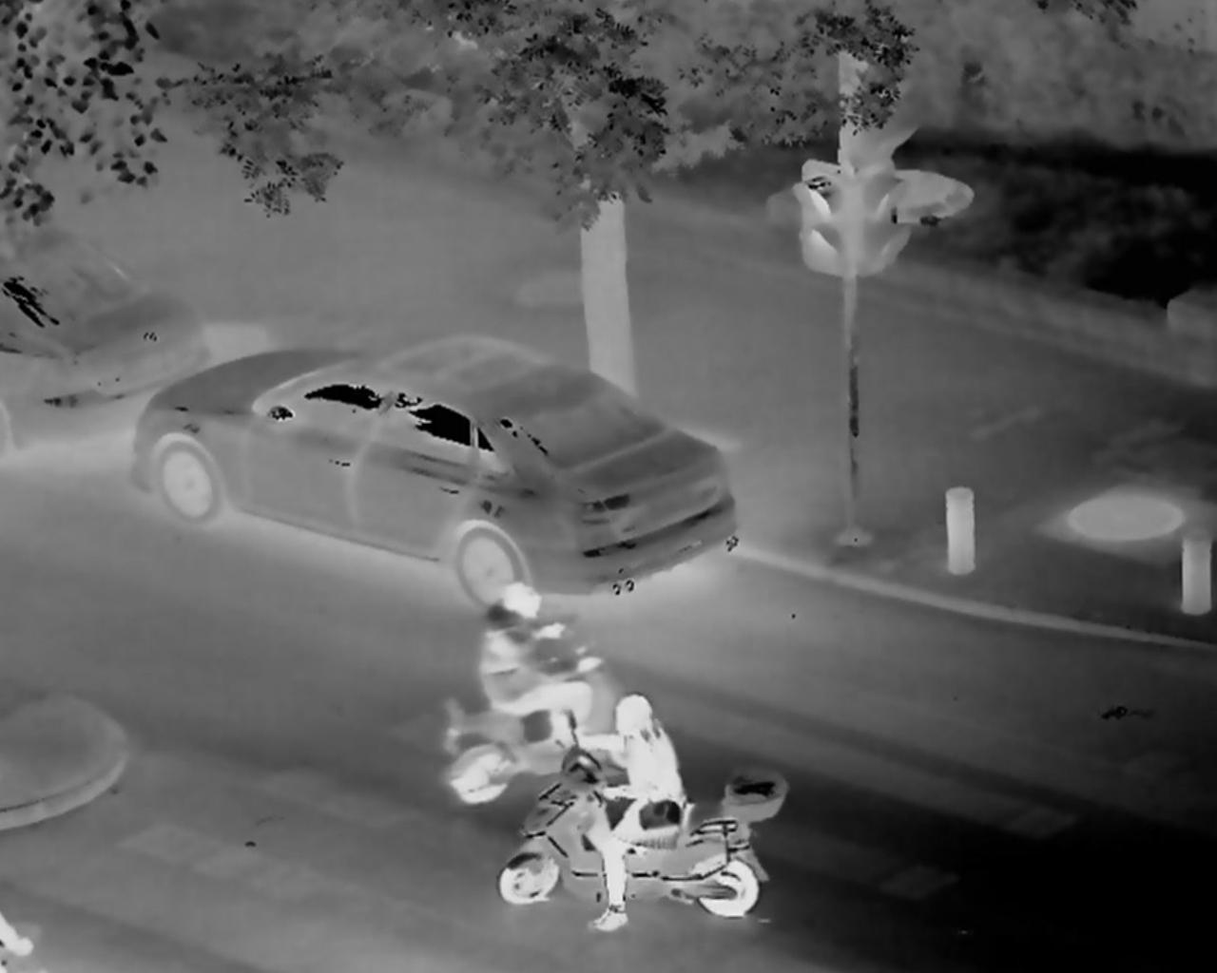person: (471, 585, 614, 778), (575, 691, 686, 935)
